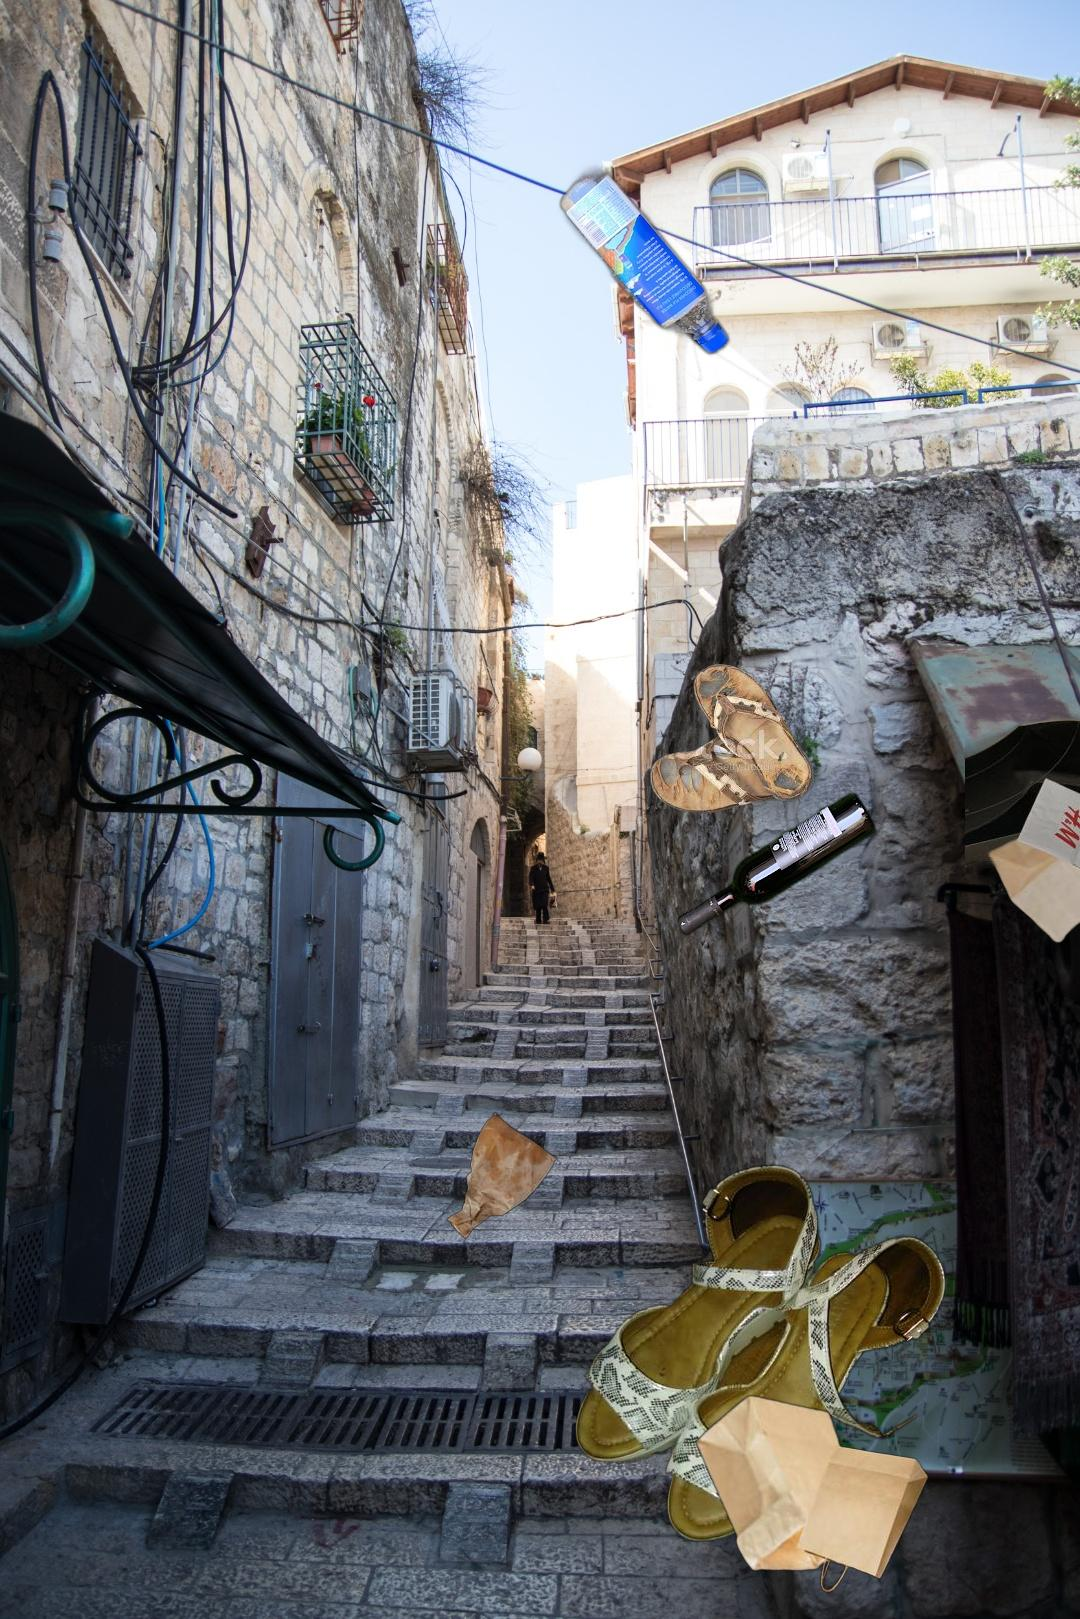glass: (673, 396, 880, 941)
paper-bag: (693, 1392, 931, 1594), (965, 687, 1080, 945), (444, 1111, 560, 1242)
plastic-bottles: (326, 14, 838, 614)
shoes: (572, 1160, 946, 1547), (647, 661, 817, 816)
